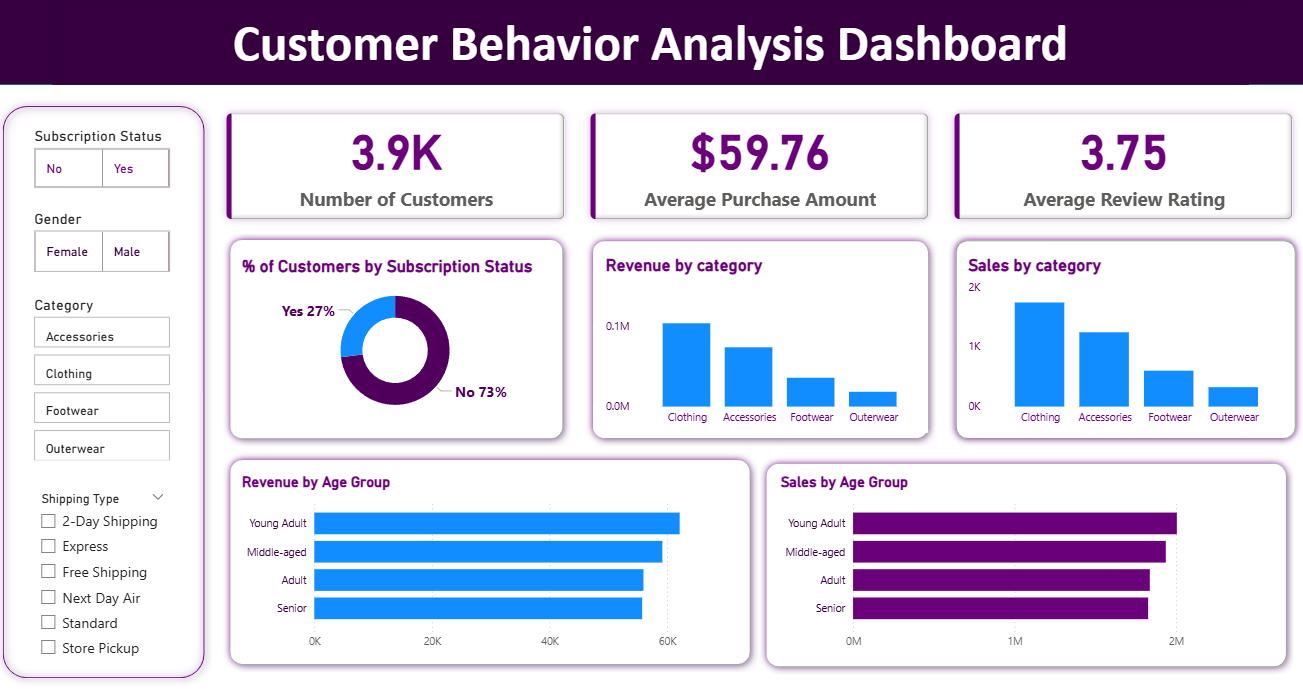

The dashboard page shown, as its layout file describes it:
{"tool":"powerbi","page":{"name":"Page 1","canvas":[1500,820],"ordinal":0},"visuals":[{"type":"cardVisual","fields":{"Data":["customer_behavior customer.Number of Customres","customer_behavior customer.Average Purchase Amount","customer_behavior customer.Average Review Rating"]},"box":[248.3,139.9,1251.7,153.3],"z":0,"group":"g3"},{"type":"shape","box":[1090.6,292.8,404.4,243.1],"z":0,"group":"g2"},{"type":"shape","box":[260,543.3,611.7,251.5],"z":0},{"type":"group","id":"g1","title":"Group 2","box":[0,0,1500,123.3],"z":1000},{"type":"shape","box":[0,0,1500,123.3],"z":1000,"group":"g1"},{"type":"shape","box":[673.6,292.8,401,243.1],"z":1000,"group":"g2"},{"type":"textbox","box":[66.4,33.3,1367.2,90],"z":2000,"group":"g1"},{"type":"shape","box":[260,290.9,397.6,245],"z":2000,"group":"g2"},{"type":"clusteredBarChart","title":"Revenue by Age Group","fields":{"Y":["Sum(customer_behavior customer.purchase_amount)"],"Category":["customer_behavior customer.age_group"]},"box":[276.7,566.7,573.3,210],"z":2000},{"type":"shape","box":[0,137.9,248.3,671.7],"z":3000,"group":"g3"},{"type":"group","id":"g2","title":"Group 1","box":[260,290.9,1235,245],"z":3000},{"type":"donutChart","title":"% of Customers by Subscription Status","fields":{"Category":["customer_behavior customer.subscription_status"],"Y":["CountNonNull(customer_behavior customer.customer_id)"]},"box":[276.8,319.2,360.6,192.2],"z":3000,"group":"g2"},{"type":"advancedSlicerVisual","fields":{"Values":["customer_behavior customer.subscription_status"]},"box":[40,171.2,165,75],"z":4000,"group":"g3"},{"type":"clusteredColumnChart","title":"Revenue by category","fields":{"Y":["Sum(customer_behavior customer.purchase_amount)"],"Category":["customer_behavior customer.category"]},"box":[692.4,318.5,373.5,202.6],"z":4000,"group":"g2"},{"type":"shape","box":[873.5,546.8,611.5,249.8],"z":4000},{"type":"clusteredColumnChart","title":"Sales by category","fields":{"Y":["CountNonNull(customer_behavior customer.customer_id)"],"Category":["customer_behavior customer.category"]},"box":[1106.6,318.5,373.5,202.6],"z":5000,"group":"g2"},{"type":"advancedSlicerVisual","title":"Category","fields":{"Values":["customer_behavior customer.category"]},"box":[40,362.9,165,195],"z":5000,"group":"g3"},{"type":"clusteredBarChart","title":"Sales by Age Group","fields":{"Y":["Sum(customer_behavior customer.customer_id)"],"Category":["customer_behavior customer.age_group"]},"box":[893.3,566.7,568.3,210],"z":5000},{"type":"group","id":"g3","title":"Group 4","box":[0,137.9,1500,671.7],"z":6000},{"type":"slicer","fields":{"Values":["customer_behavior customer.shipping_type"]},"box":[40,581.6,165,206.7],"z":6000,"group":"g3"},{"type":"advancedSlicerVisual","fields":{"Values":["customer_behavior customer.gender"]},"box":[40,264.9,165,76.7],"z":8001,"group":"g3"}]}

Visuals, with their boxes in screenshot pixels (x1, y1, x2, y2), scaled from the page's 1500x820 canvas onto the 1303x695 screenshot:
cardVisual - customer_behavior customer.Number of Customres x customer_behavior customer.Average Purchase Amount: l=216, t=119, r=1302, b=249
shape: l=947, t=248, r=1299, b=454
shape: l=226, t=460, r=757, b=674
"Group 2" group: l=0, t=0, r=1302, b=105
shape: l=0, t=0, r=1302, b=105
shape: l=585, t=248, r=933, b=454
textbox: l=58, t=28, r=1245, b=105
shape: l=226, t=247, r=571, b=454
"Revenue by Age Group" clusteredBarChart: l=240, t=480, r=738, b=658
shape: l=0, t=117, r=216, b=686
"Group 1" group: l=226, t=247, r=1299, b=454
"% of Customers by Subscription Status" donutChart: l=240, t=271, r=554, b=433
advancedSlicerVisual - customer_behavior customer.subscription_status: l=35, t=145, r=178, b=209
"Revenue by category" clusteredColumnChart: l=601, t=270, r=926, b=442
shape: l=759, t=463, r=1290, b=675
"Sales by category" clusteredColumnChart: l=961, t=270, r=1286, b=442
"Category" advancedSlicerVisual: l=35, t=308, r=178, b=473
"Sales by Age Group" clusteredBarChart: l=776, t=480, r=1270, b=658
"Group 4" group: l=0, t=117, r=1302, b=686
slicer - customer_behavior customer.shipping_type: l=35, t=493, r=178, b=668
advancedSlicerVisual - customer_behavior customer.gender: l=35, t=225, r=178, b=290
